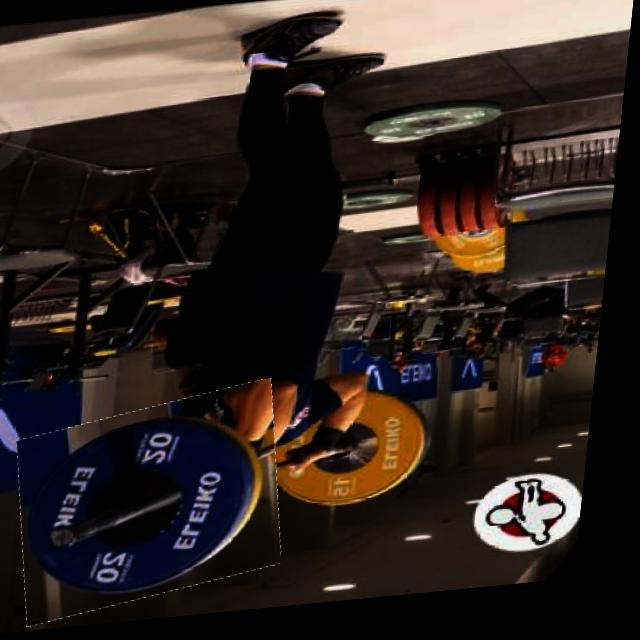barbell: (20, 392, 302, 622)
